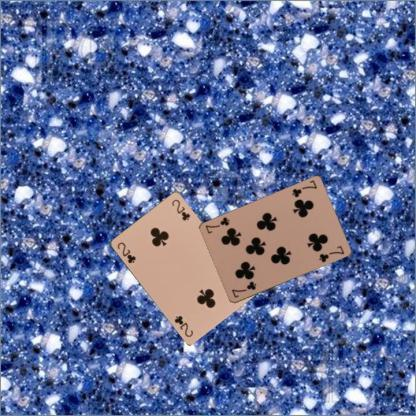2c: (114, 240, 137, 264)
7c: (289, 178, 318, 199), (230, 279, 257, 299)
